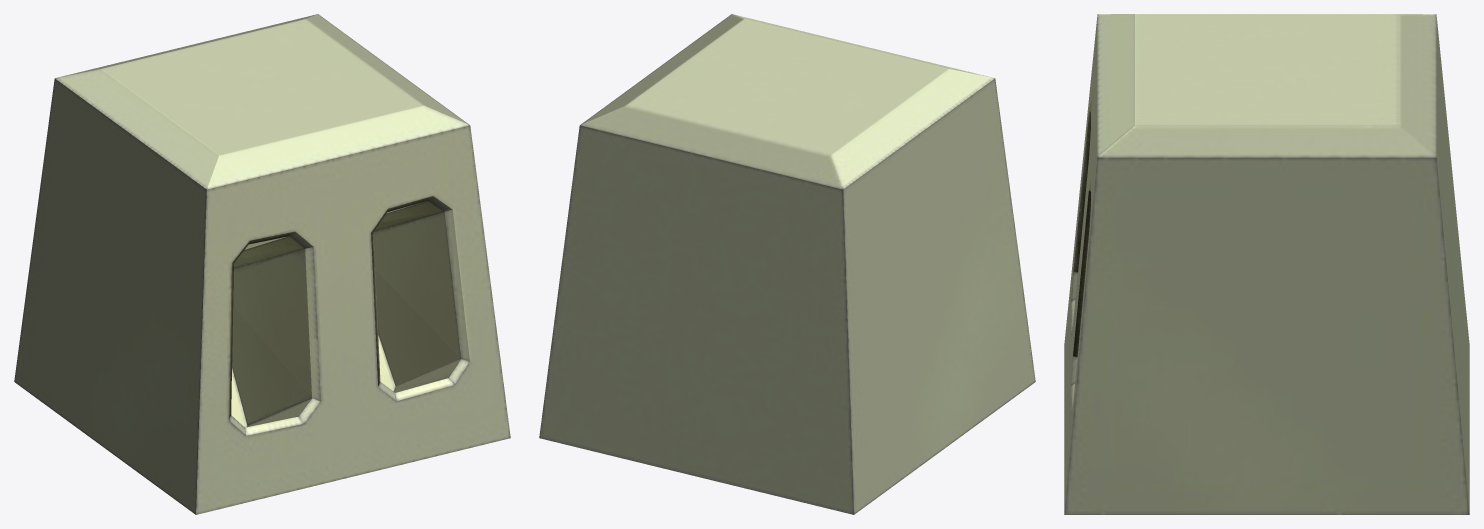
Rendered from manualgun_tower.obj.
3 renders of one model, left to right at view 1: azimuth 30°, elevation 25°; view 2: azimuth 150°, elevation 25°; view 3: azimuth 270°, elevation 25°, orthographic. The views are drawn at different scales.
Visible parts, largest first — view 1: Object003; view 2: Object003; view 3: Object003.
Boxes of the visible parts, bbox=[...] form: Object003: bbox=[14, 14, 510, 514]; Object003: bbox=[539, 14, 1035, 514]; Object003: bbox=[1064, 14, 1469, 514].
Size of the model in its own units: 10.77 by 10.55 by 10.77.
Materials: 1 (1 with a texture image).
